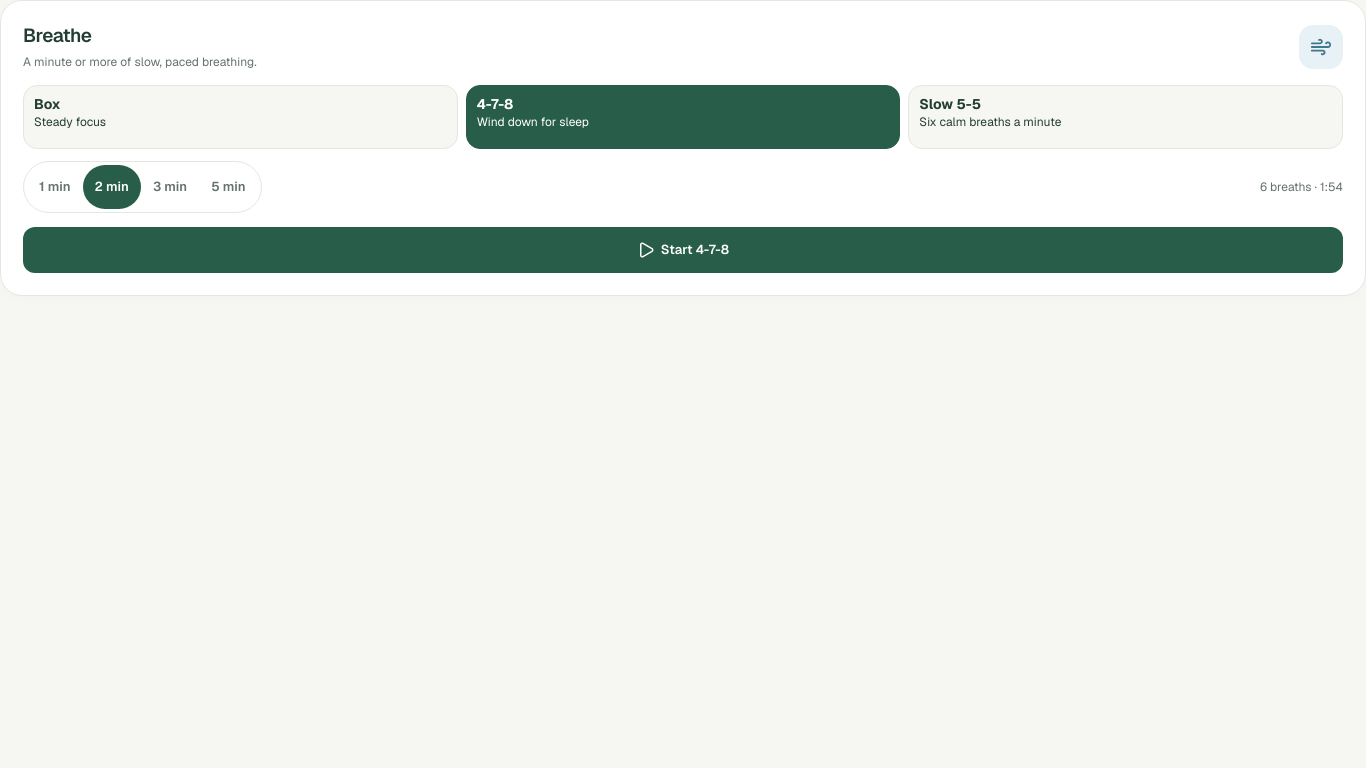
Breathing › stops ticking once the session is done
Click the button "1 min".
click(55, 187)  # box [27,165,82,209]
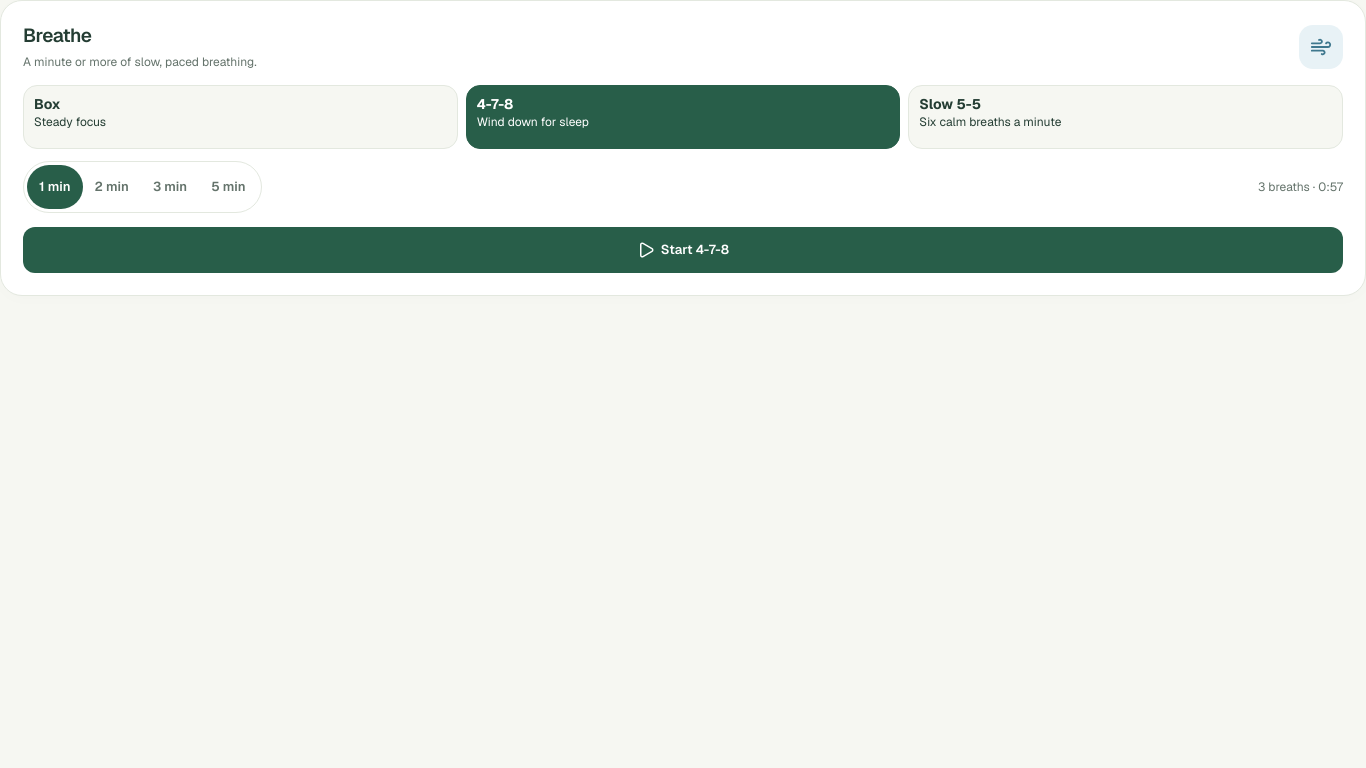
Click the button "Start 4-7-8".
click(683, 250)  # box [23,227,1343,273]
Wait 57000 ms
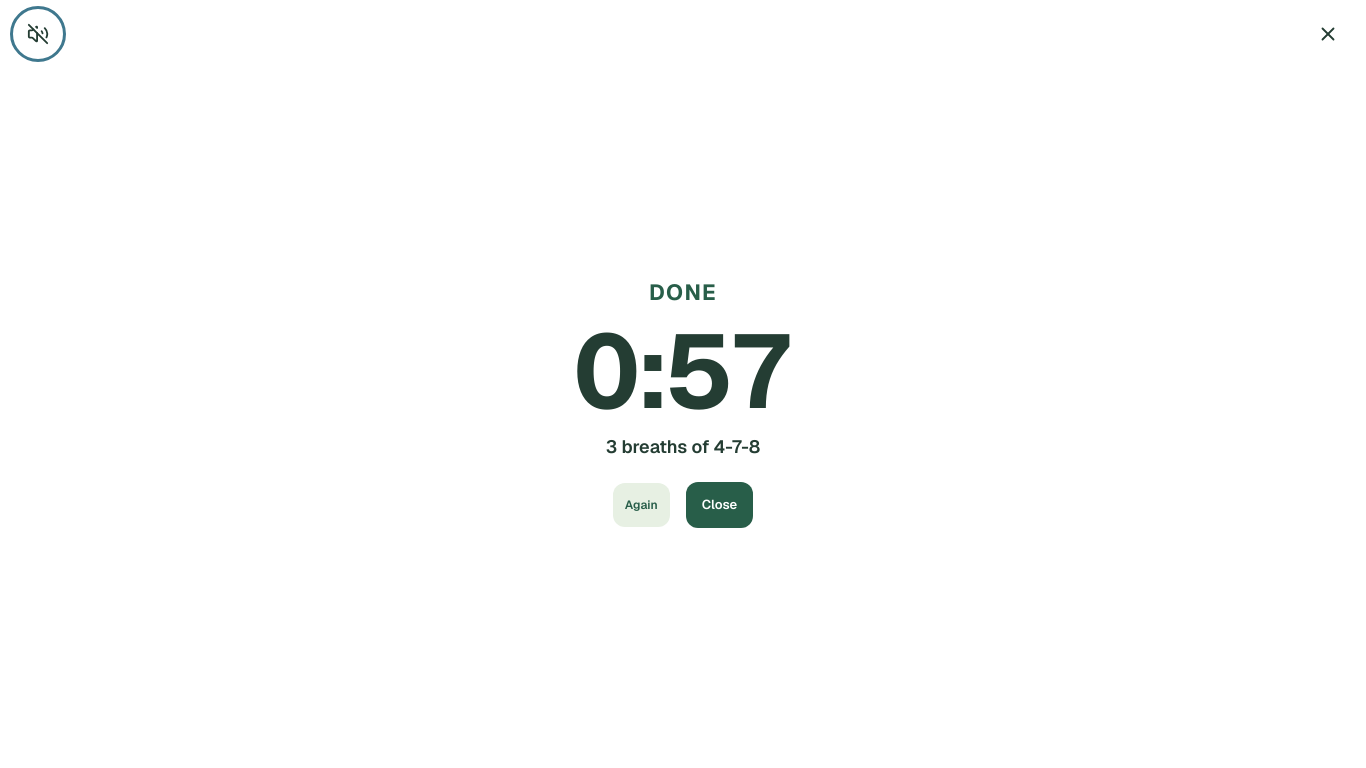
expect the text with class "interval-phase" reads "Done": met, box [649,278,717,306]
Click the button "Again".
click(641, 505)  # box [613,483,670,527]
Wait 4000 ms
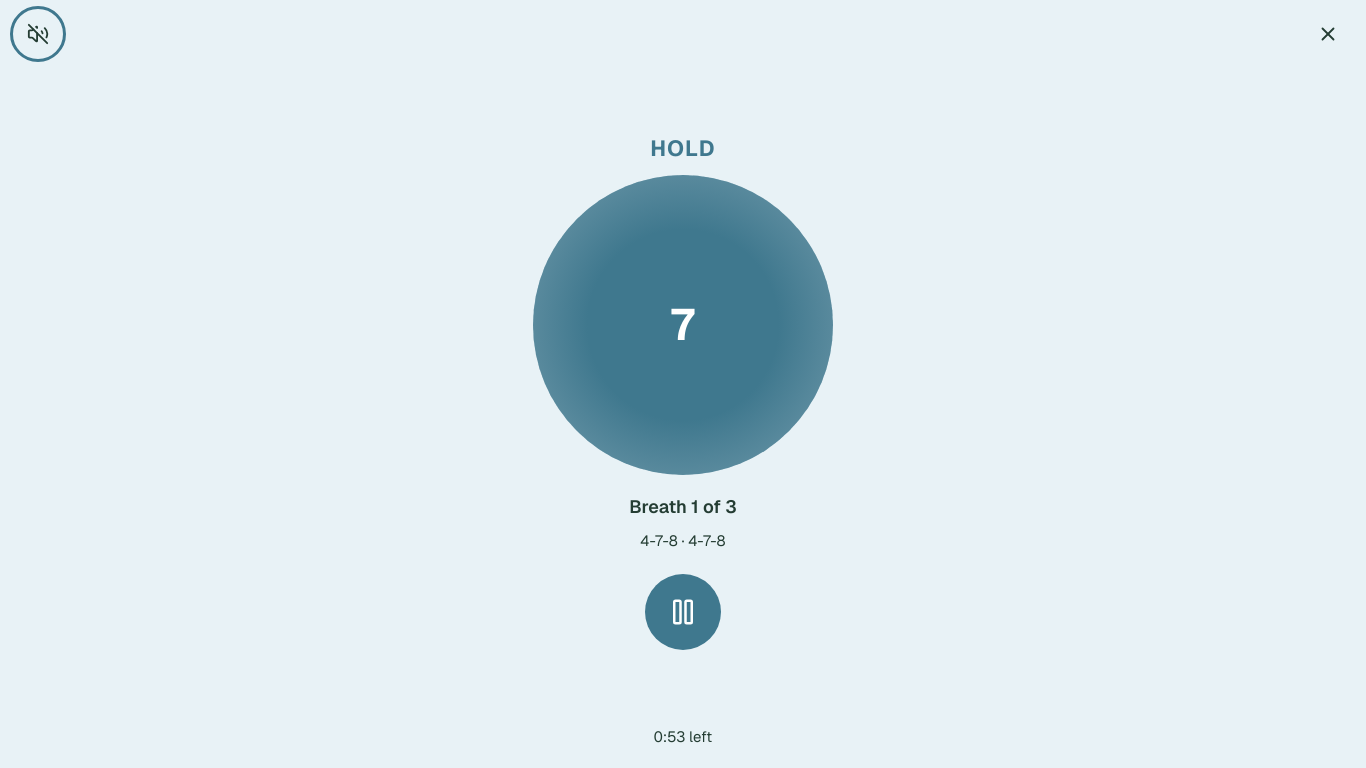
Click the button named "Stop breathing".
click(1328, 34)  # box [1306,12,1350,56]
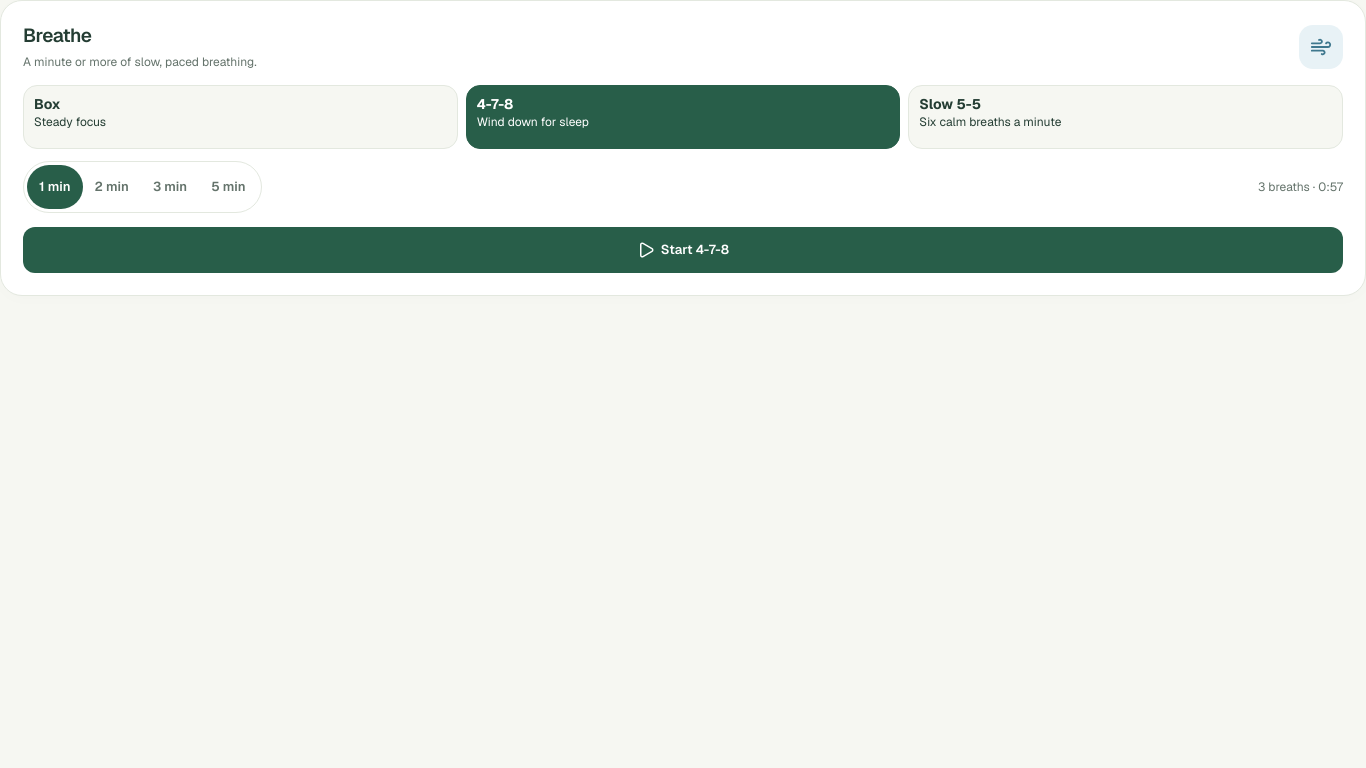
expect the dialog is gone: met
